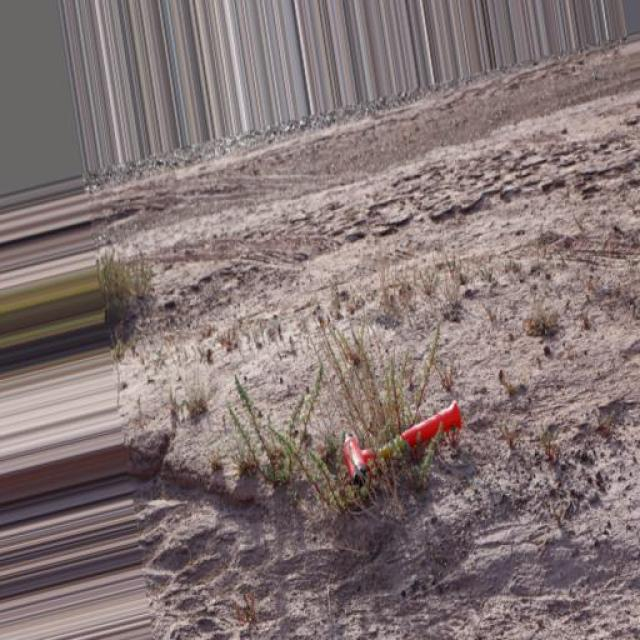mallet: (340, 399, 462, 486)
